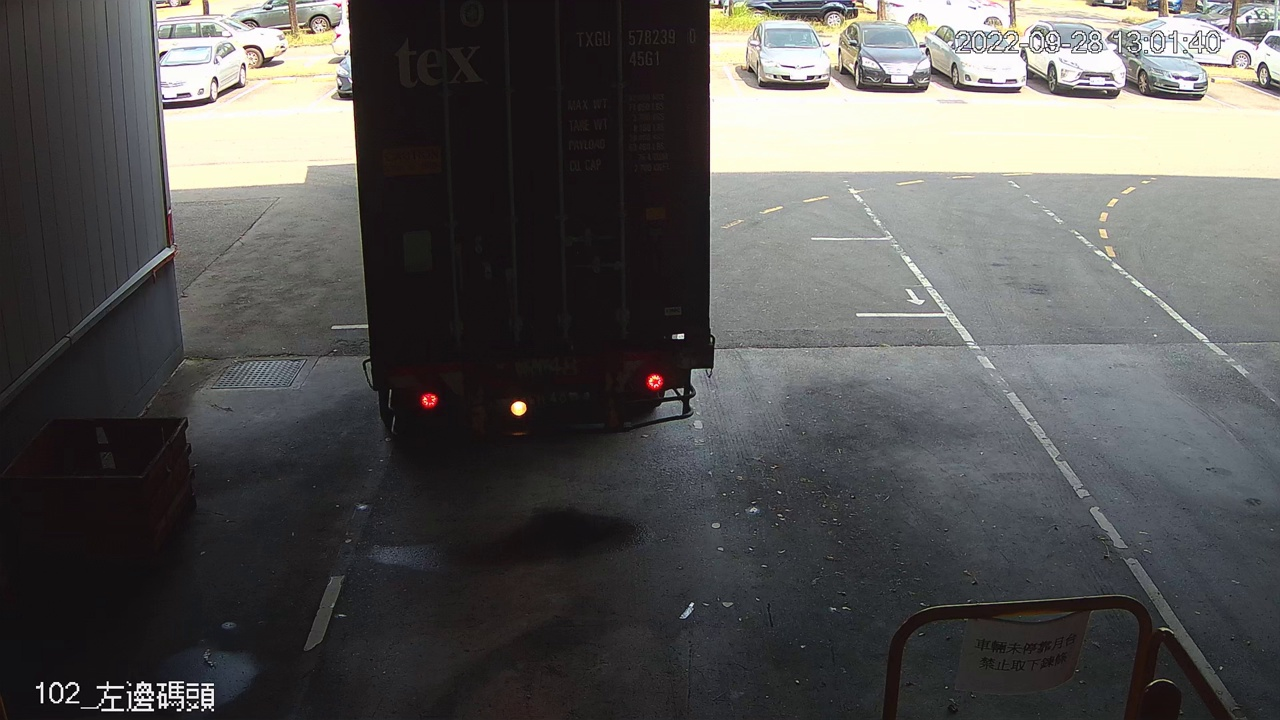container: (571, 24, 702, 72)
